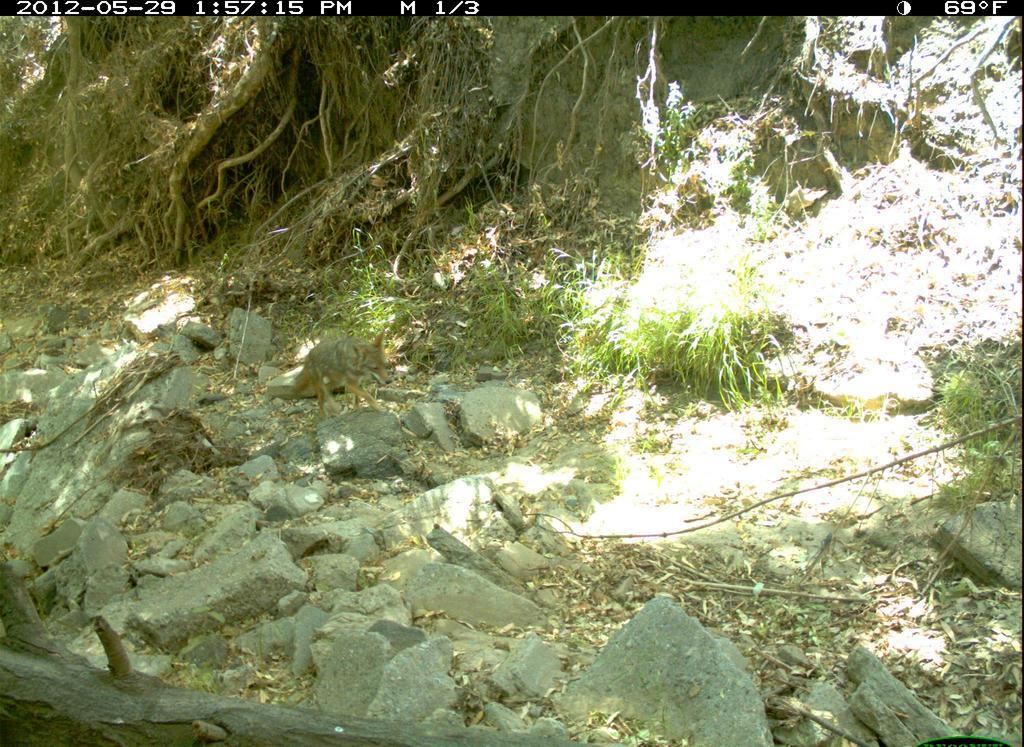coyote: (289, 323, 404, 422)
